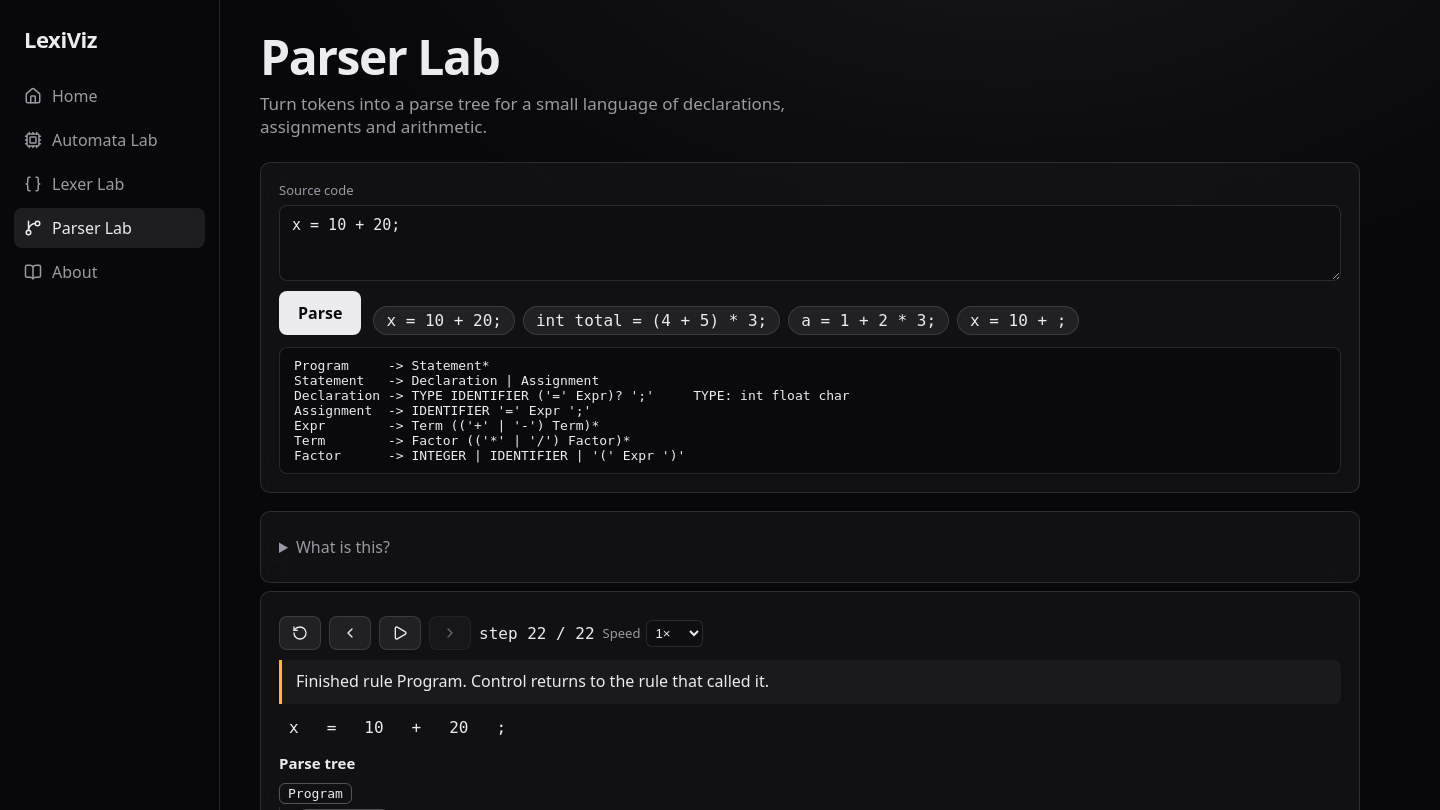
Parser Lab › lexical errors stop parsing with a clear message
The image size is (1440, 810).
Replace the text in the text box labelled "Source code" with "x = 1 # 2;" at (810, 243), box x1=279 y1=205 x2=1341 y2=281
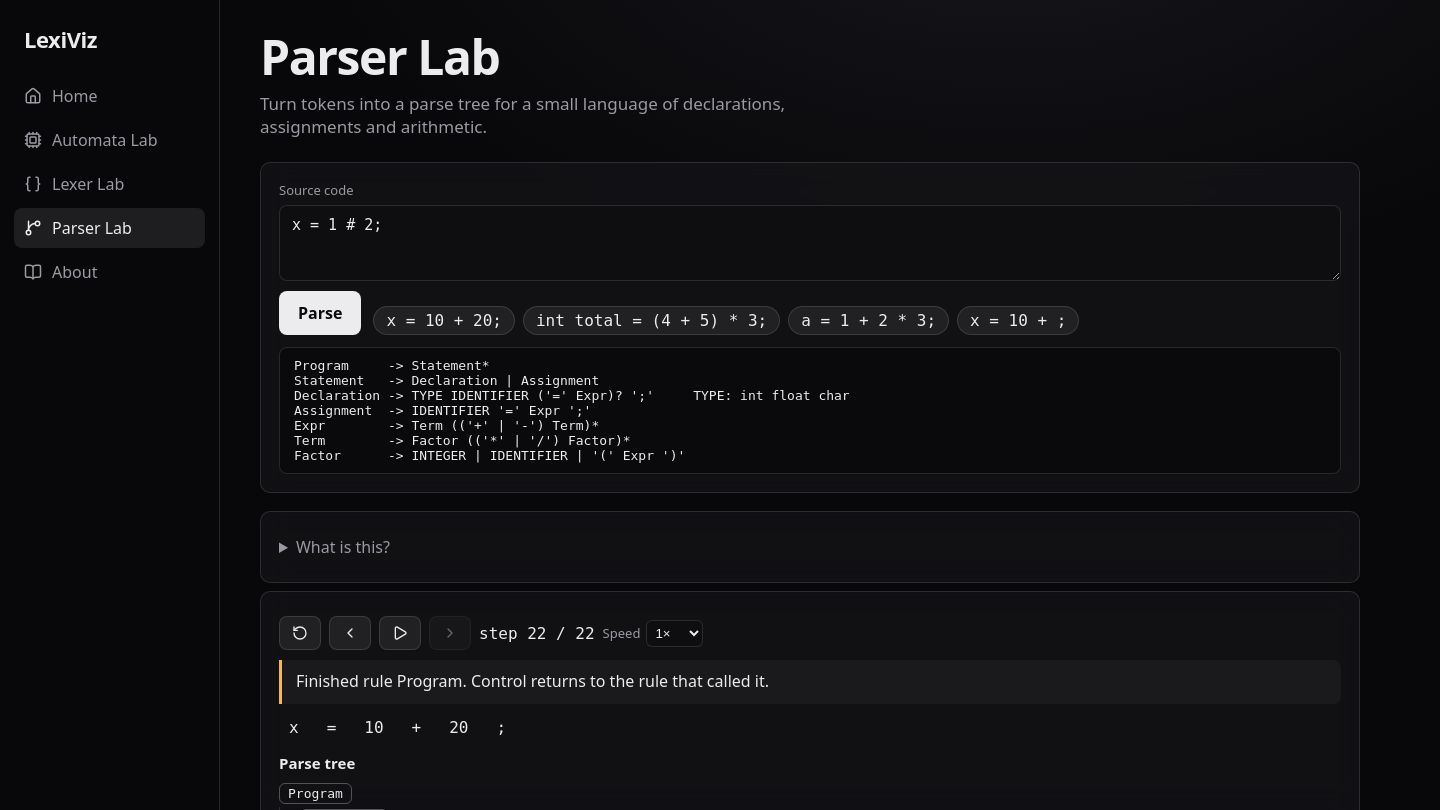
Click the button "Parse".
click(320, 313)  # box x1=279 y1=291 x2=361 y2=335
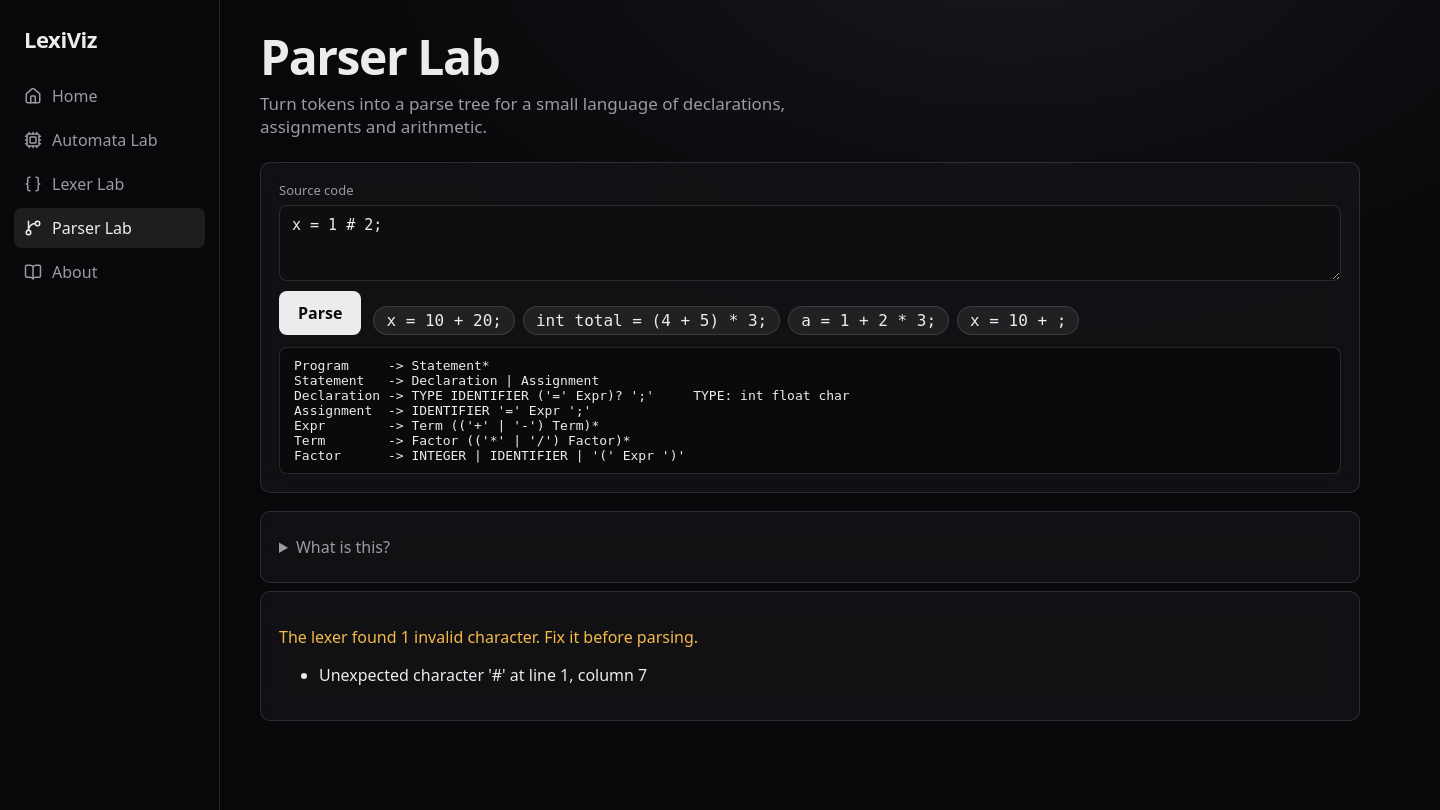
Expected: the message shows "The lexer found 1 invalid character", x1=279 y1=626 x2=698 y2=648
